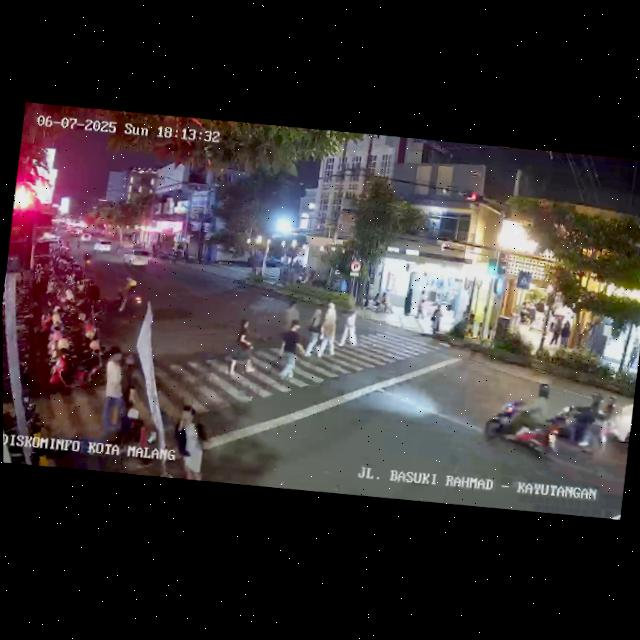car: (120, 247, 153, 271), (90, 236, 117, 256)
motorcycle: (480, 380, 568, 462), (547, 388, 616, 462), (108, 273, 145, 323)
person: (109, 386, 150, 476), (95, 347, 131, 441), (167, 401, 207, 479), (273, 311, 305, 382), (229, 315, 260, 381), (304, 301, 328, 361), (316, 301, 338, 359), (338, 303, 359, 351), (283, 299, 300, 333), (557, 316, 572, 350), (428, 303, 442, 337), (547, 314, 561, 348), (401, 286, 415, 319), (414, 289, 426, 322), (629, 343, 640, 372)
